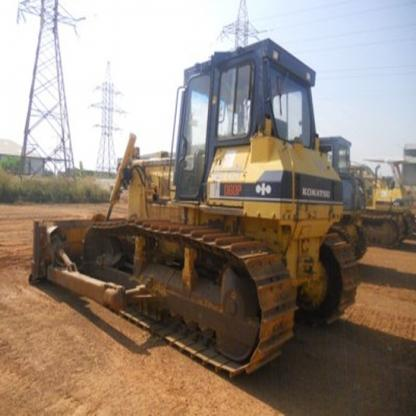bull_dozer/loader/grader: (23, 34, 361, 384)
